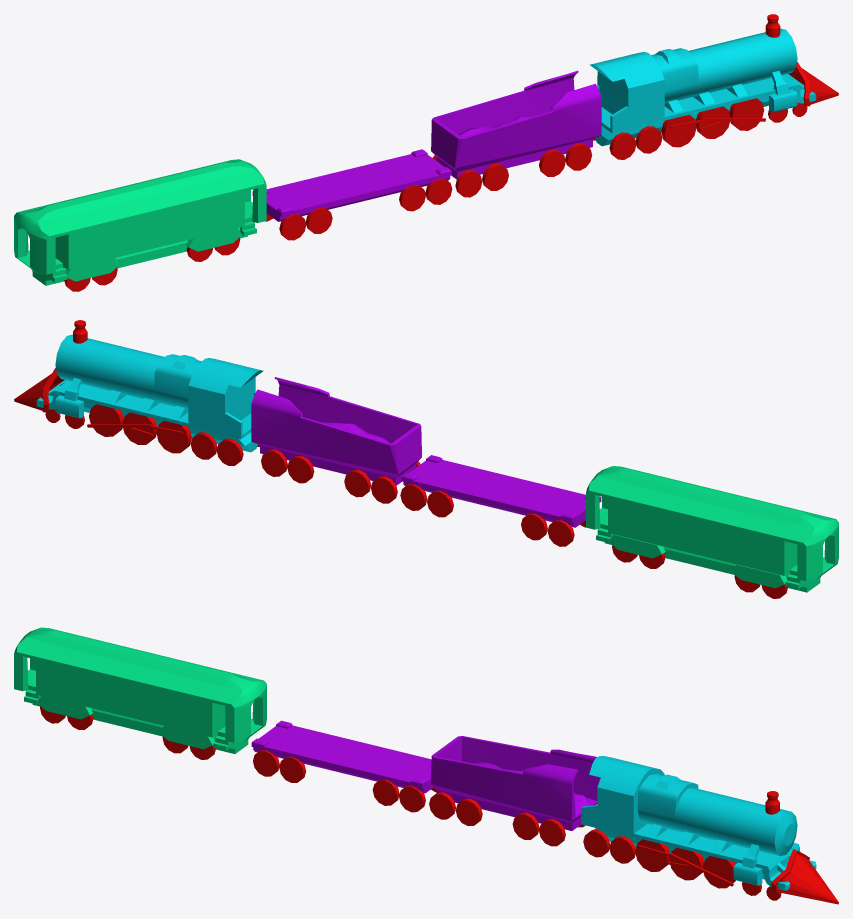
Rendered from TRAIN_Package.fbx.
3 views of the same model, one above another, from view 1: azimuth 30°, elevation 25°; view 2: azimuth 150°, elevation 25°; view 3: azimuth 330°, elevation 25° (orthographic).
Parts seen in each view (by area): view 1: TRAIN_PassengerCarMesh, TRAIN_LocomotiveMesh, TRAIN_CoalCarMesh, TRAIN_FlatbedMesh; view 2: TRAIN_PassengerCarMesh, TRAIN_LocomotiveMesh, TRAIN_CoalCarMesh, TRAIN_FlatbedMesh; view 3: TRAIN_LocomotiveMesh, TRAIN_PassengerCarMesh, TRAIN_CoalCarMesh, TRAIN_FlatbedMesh.
Part boxes in pixels (x1=…): TRAIN_PassengerCarMesh: x1=14, y1=159, x2=266, y2=291; TRAIN_LocomotiveMesh: x1=589, y1=14, x2=838, y2=159; TRAIN_CoalCarMesh: x1=431, y1=70, x2=601, y2=197; TRAIN_FlatbedMesh: x1=252, y1=149, x2=452, y2=240; TRAIN_PassengerCarMesh: x1=586, y1=466, x2=838, y2=598; TRAIN_LocomotiveMesh: x1=14, y1=320, x2=263, y2=465; TRAIN_CoalCarMesh: x1=251, y1=377, x2=421, y2=503; TRAIN_FlatbedMesh: x1=400, y1=455, x2=601, y2=546; TRAIN_LocomotiveMesh: x1=581, y1=756, x2=838, y2=904; TRAIN_PassengerCarMesh: x1=14, y1=627, x2=266, y2=759; TRAIN_CoalCarMesh: x1=429, y1=736, x2=600, y2=846; TRAIN_FlatbedMesh: x1=251, y1=720, x2=436, y2=812.
Bounding box in the file's own units: 3.95 × 0.442 × 0.3379.
